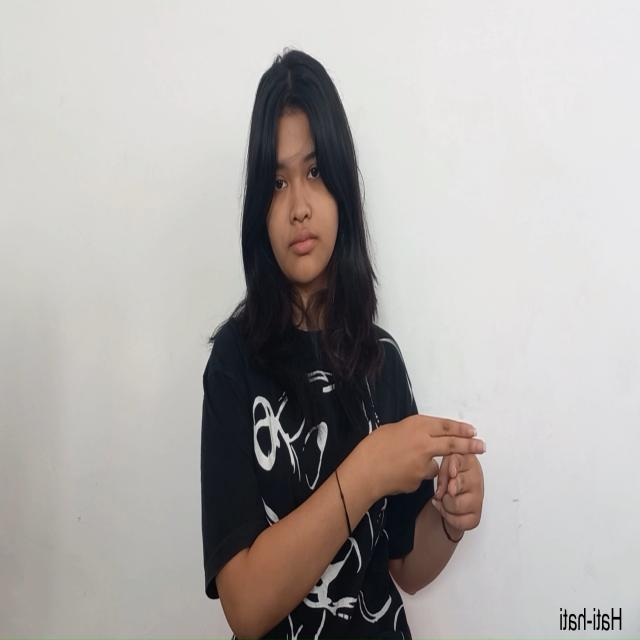Hati-hati -BISINDO-: (359, 413, 488, 532)
